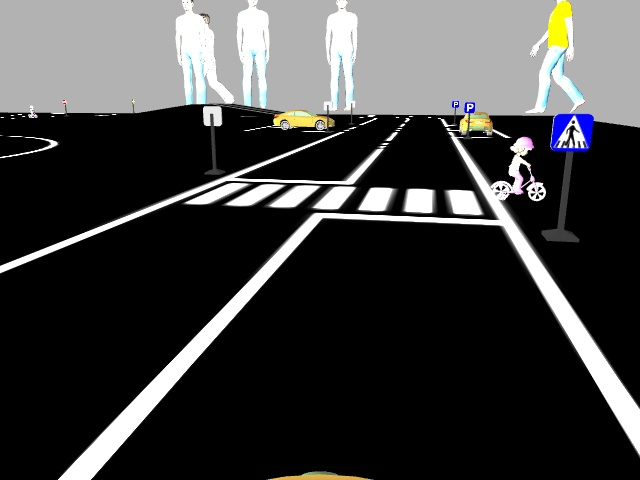Crosswalk: (550, 112, 593, 151)
Parking: (463, 100, 476, 113), (450, 98, 460, 107)
Pedestrian: (487, 137, 549, 203)
